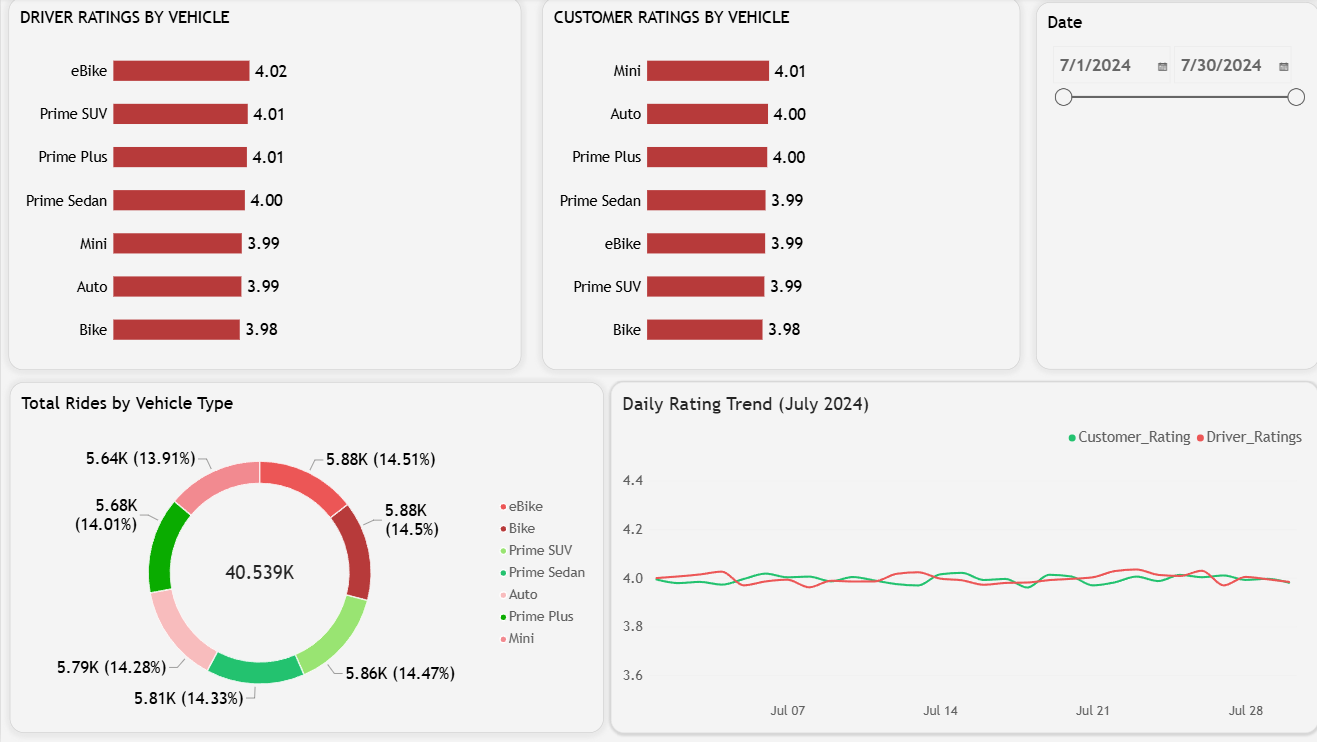

This screenshot's page, from the dashboard's own definition file:
{"tool":"powerbi","page":{"name":"Ratings","canvas":[1920,1080],"ordinal":4},"visuals":[{"type":"slicer","title":"Date","fields":{"Values":["Bookings-40000-Rows.Date"]},"box":[1498,8,410,532],"z":0},{"type":"clusteredBarChart","title":"DRIVER RATINGS BY VEHICLE ","fields":{"Category":["July.Vehicle_Type"],"Y":["Avg(July.Driver_Ratings)"]},"box":[10,0,742,540],"z":1000},{"type":"clusteredBarChart","title":"CUSTOMER RATINGS BY VEHICLE ","fields":{"Category":["July.Vehicle_Type"],"Y":["Avg(July.Customer_Rating)"]},"box":[784,0,692,540],"z":2000},{"type":"donutChart","title":"Total Rides by Vehicle Type","fields":{"Category":["July.Vehicle_Type"],"Y":["CountNonNull(July.Booking_ID)"]},"box":[12,558,860,508],"z":3000},{"type":"lineChart","title":"Daily Rating Trend (July 2024)","fields":{"Category":["July.Date.Variation.Date Hierarchy.Year","July.Date.Variation.Date Hierarchy.Quarter","July.Date.Variation.Date Hierarchy.Month","July.Date.Variation.Date Hierarchy.Day"],"Y":["Avg(July.Customer_Rating)","Avg(July.Driver_Ratings)"]},"box":[884,558,1024,508],"z":4000}]}

Visuals, with their boxes in screenshot pixels (x1, y1, x2, y2), scaled from the page's 1920x1080 canvas onto the 1317x742 screenshot:
"Date" slicer: 1028,5,1309,371
"DRIVER RATINGS BY VEHICLE " clusteredBarChart: 7,0,516,371
"CUSTOMER RATINGS BY VEHICLE " clusteredBarChart: 538,0,1012,371
"Total Rides by Vehicle Type" donutChart: 8,383,598,732
"Daily Rating Trend (July 2024)" lineChart: 606,383,1309,732
